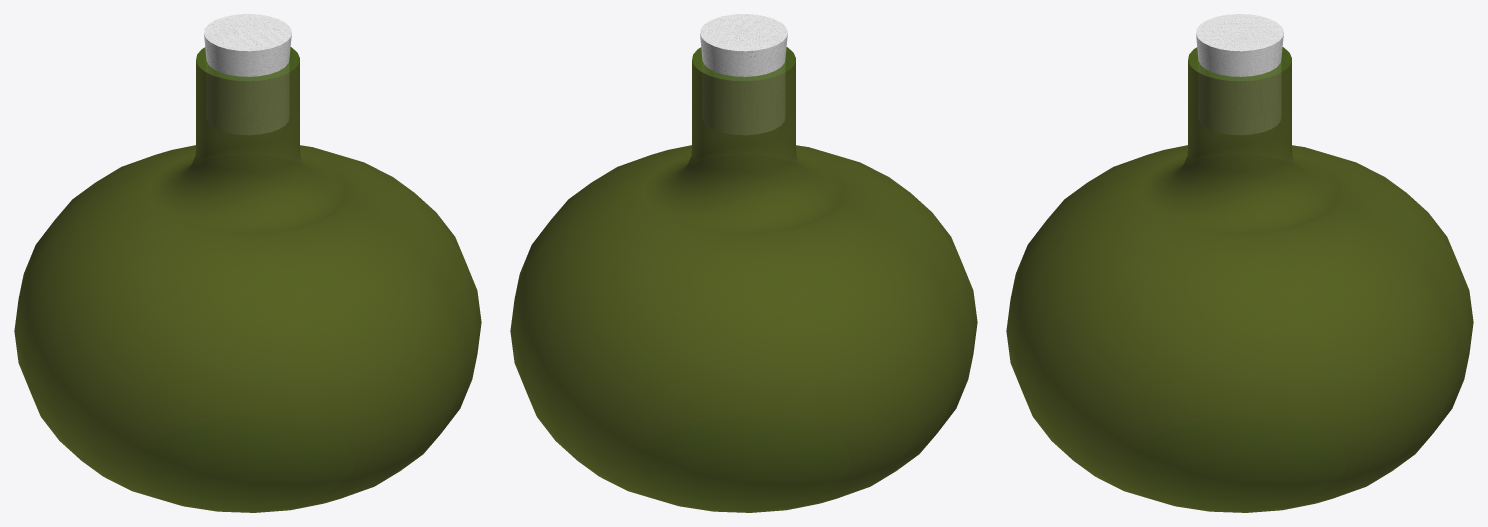
The picture shows the model from 3 angles, left to right: view 1: azimuth 30°, elevation 25°; view 2: azimuth 150°, elevation 25°; view 3: azimuth 270°, elevation 25°; orthographic projection.
Visible parts, largest first — view 1: mesh1_mesh1-geometry; view 2: mesh1_mesh1-geometry; view 3: mesh1_mesh1-geometry.
Boxes of the visible parts, x1,y1,x2,y2 form: mesh1_mesh1-geometry: [14, 14, 481, 512]; mesh1_mesh1-geometry: [510, 14, 977, 512]; mesh1_mesh1-geometry: [1006, 14, 1473, 512].
Size of the model in its own units: 0.5744 by 0.5832 by 0.5744.
